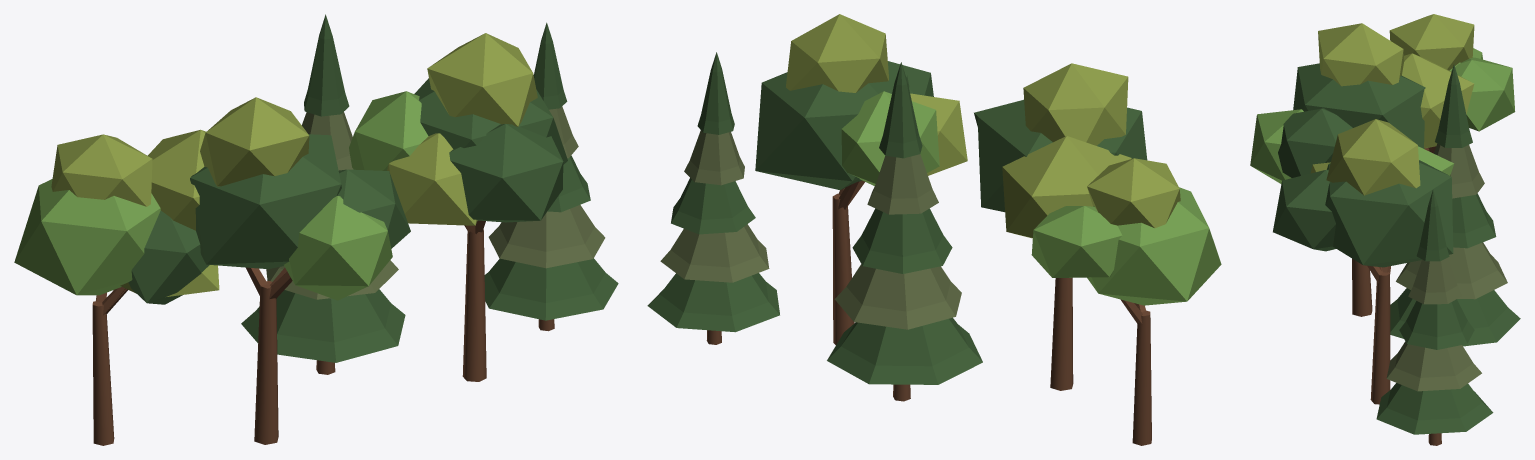
Rendered from Town_TreeClump.fbx.
The picture shows the model from 3 angles, left to right: view 1: azimuth 30°, elevation 25°; view 2: azimuth 150°, elevation 25°; view 3: azimuth 270°, elevation 25°; orthographic projection. The views are drawn at different scales.
Parts seen in each view (by area): view 1: Decor; view 2: Decor; view 3: Decor.
Part boxes in pixels (box(x1,y1,x2,y2)): Decor: box(14, 14, 618, 445); Decor: box(647, 14, 1221, 445); Decor: box(1250, 14, 1520, 445).
Bounding box in the file's own units: 60.44 × 35.77 × 29.72.
